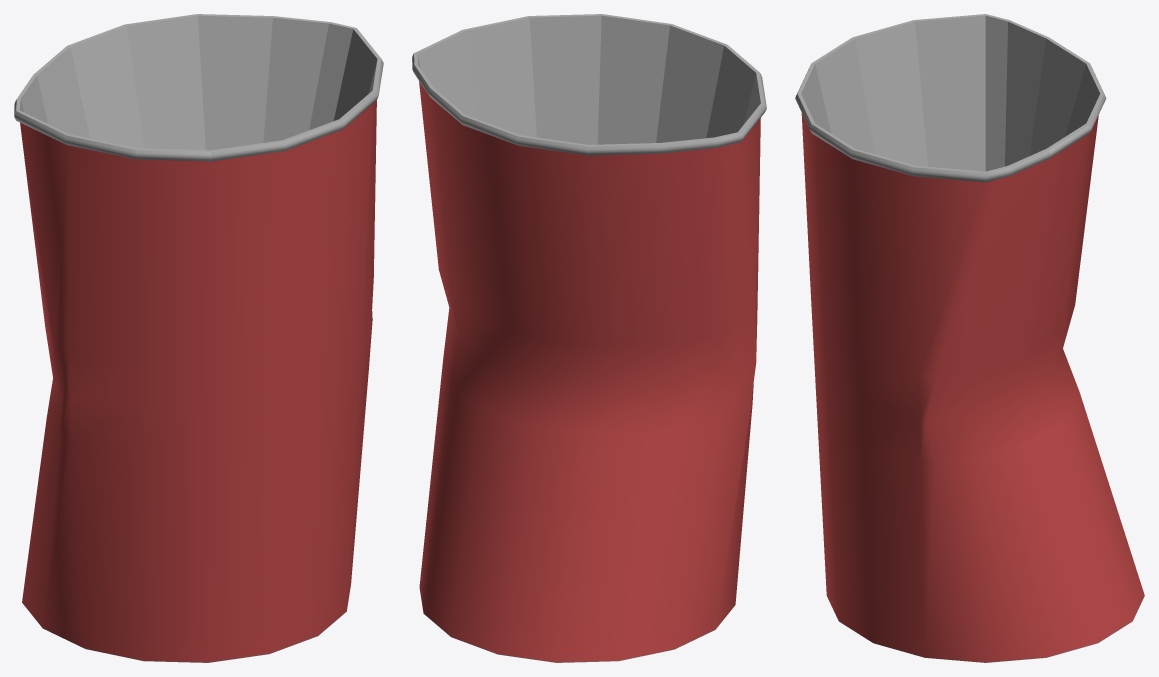
Rendered from CrushedCup.fbx.
3 views of the same model, side by side, from view 1: azimuth 30°, elevation 25°; view 2: azimuth 150°, elevation 25°; view 3: azimuth 270°, elevation 25° (orthographic). The views are drawn at different scales.
Parts seen in each view (by area): view 1: CrushedCup; view 2: CrushedCup; view 3: CrushedCup.
Part boxes in pixels (bbox=[...]): CrushedCup: bbox=[14, 14, 383, 662]; CrushedCup: bbox=[412, 14, 766, 662]; CrushedCup: bbox=[795, 14, 1144, 662].
Size of the model in its own units: 0.485 by 0.7045 by 0.4448.
1 material, 1 textured.
